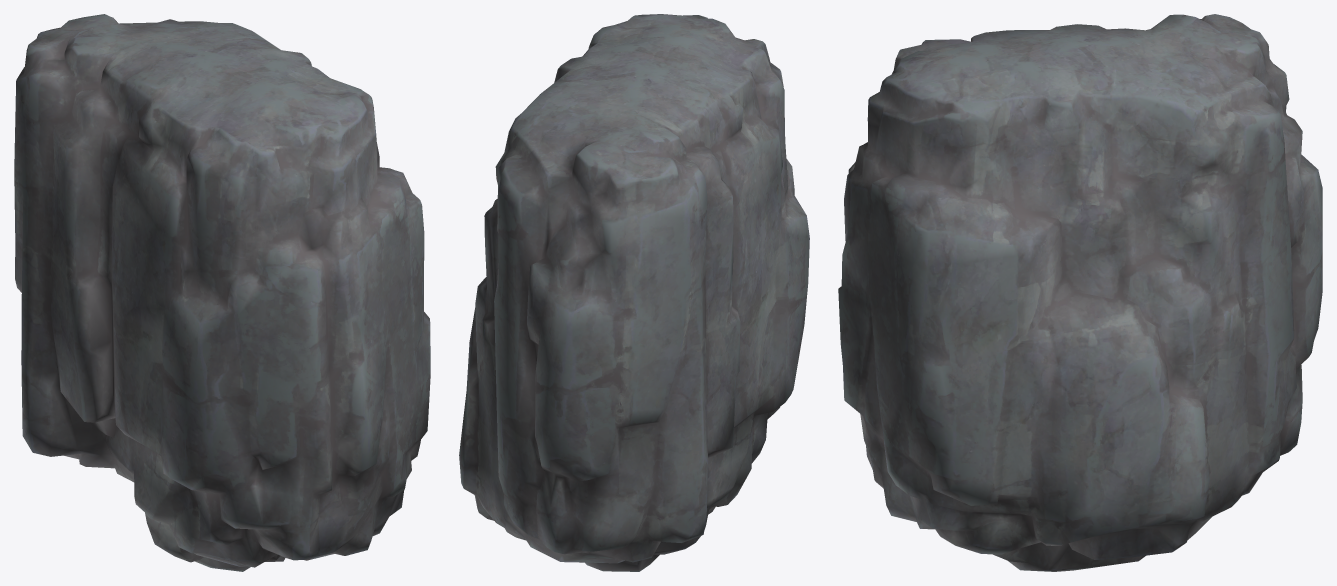
File: stone-3.fbx
3 views of the same model, side by side, from view 1: azimuth 30°, elevation 25°; view 2: azimuth 150°, elevation 25°; view 3: azimuth 270°, elevation 25° (orthographic). The views are drawn at different scales.
Parts seen in each view (by area): view 1: Area_Ly_Stone_CSPY_Full_S_03_Lod0; view 2: Area_Ly_Stone_CSPY_Full_S_03_Lod0; view 3: Area_Ly_Stone_CSPY_Full_S_03_Lod0.
Boxes of the visible parts, <box> form: Area_Ly_Stone_CSPY_Full_S_03_Lod0: <box>14,14,430,571</box>; Area_Ly_Stone_CSPY_Full_S_03_Lod0: <box>459,14,809,571</box>; Area_Ly_Stone_CSPY_Full_S_03_Lod0: <box>838,14,1322,571</box>.
Size of the model in its own units: 2025 by 3522 by 3057.
Materials: 1 (1 with a texture image).
